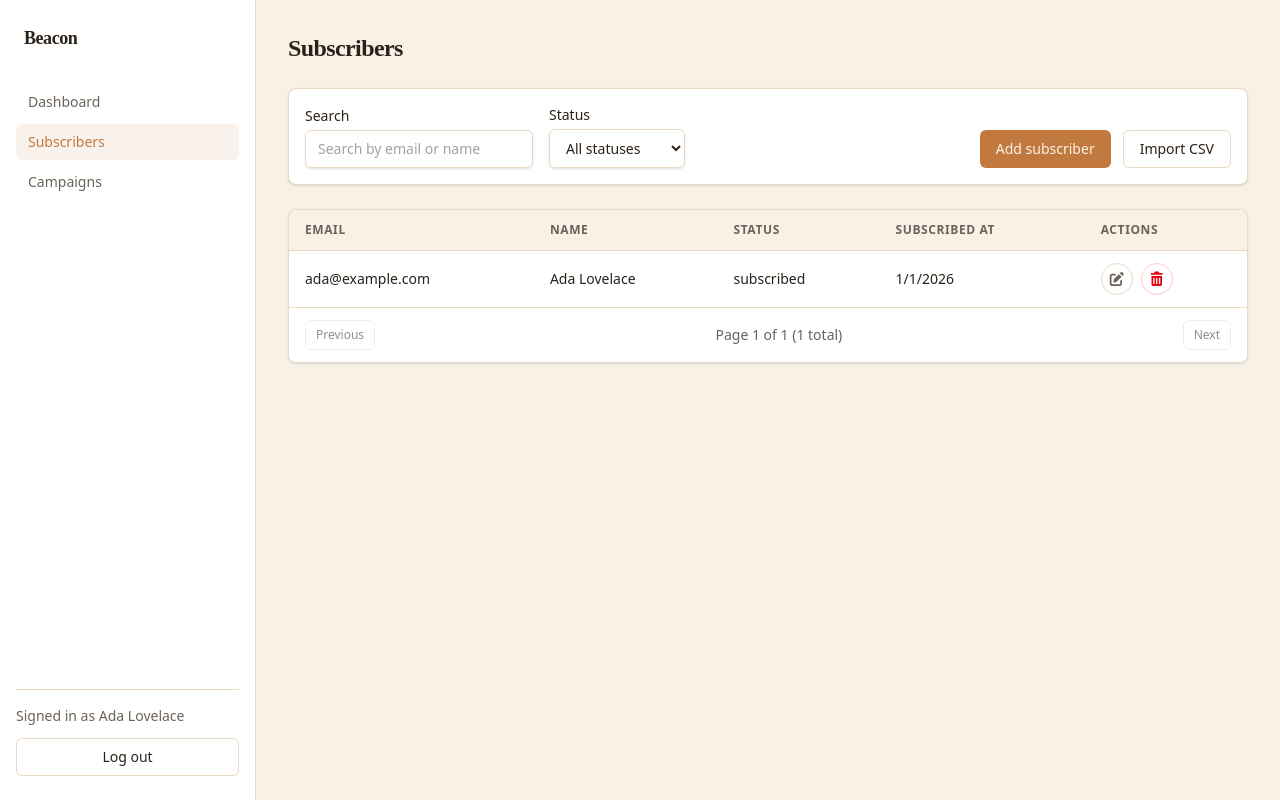
SubscriberListPage › edits an existing subscriber
Expected: the text "ada@example.com" is shown, [289,250,534,307]
Click the button named "Edit". click: (1117, 279)
box: [1101,263,1133,295]
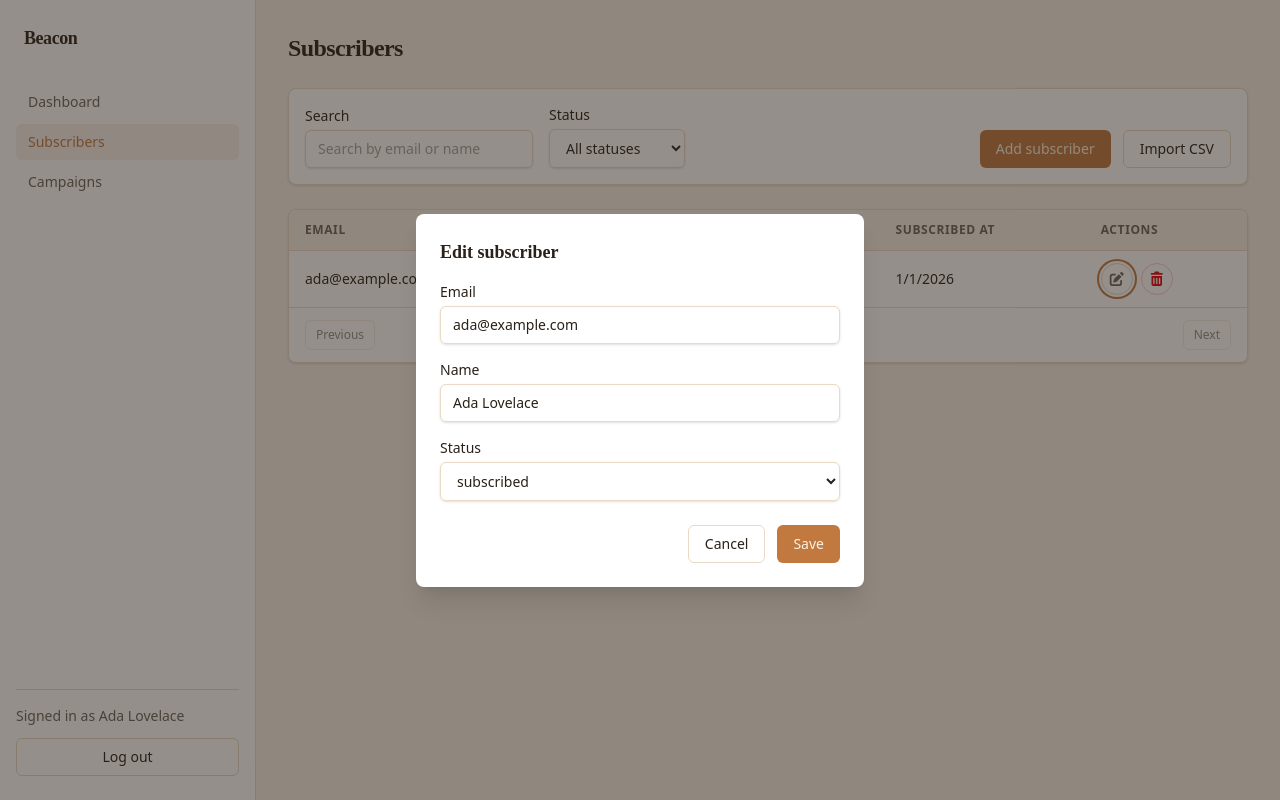
Replace the text in the field labelled "Name" with "Ada Byron". click: (640, 402)
box: [440,384,840,422]
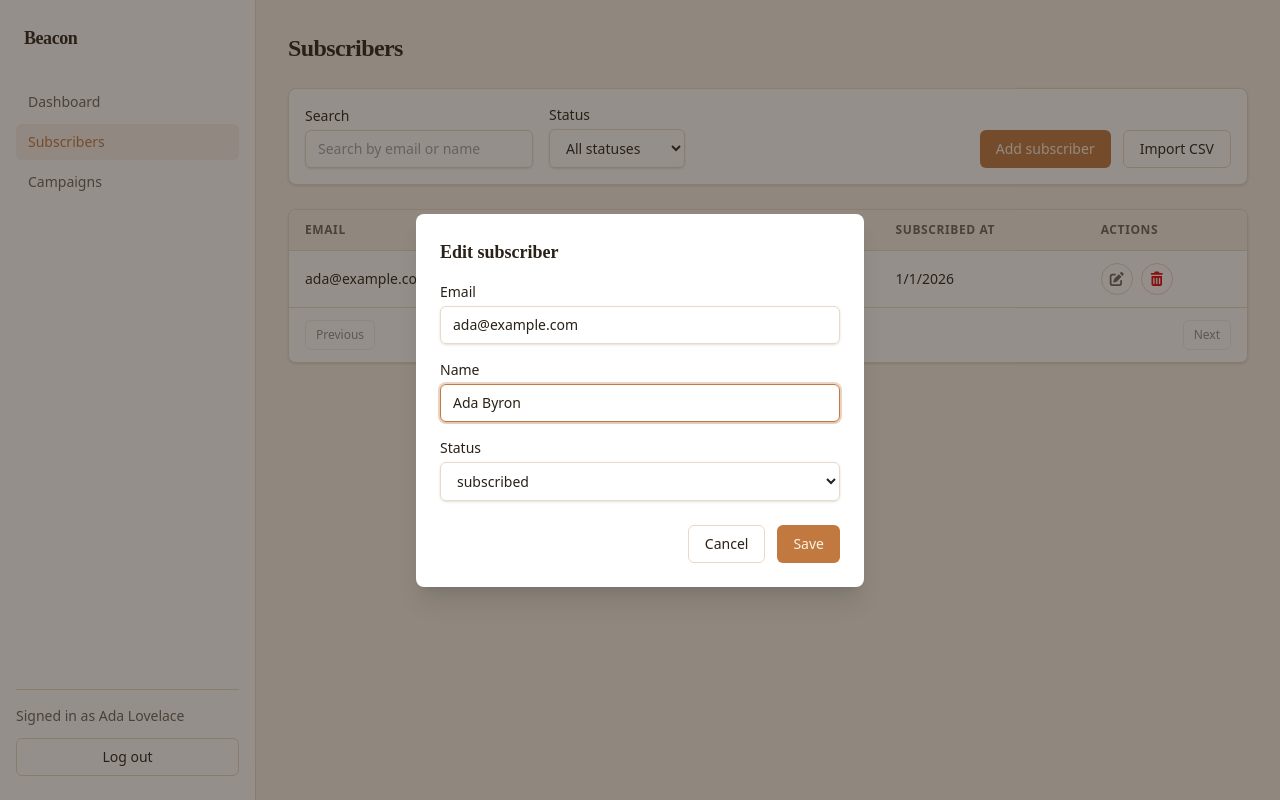
Click the button "Save". click: (809, 544)
box: [777,524,840,562]
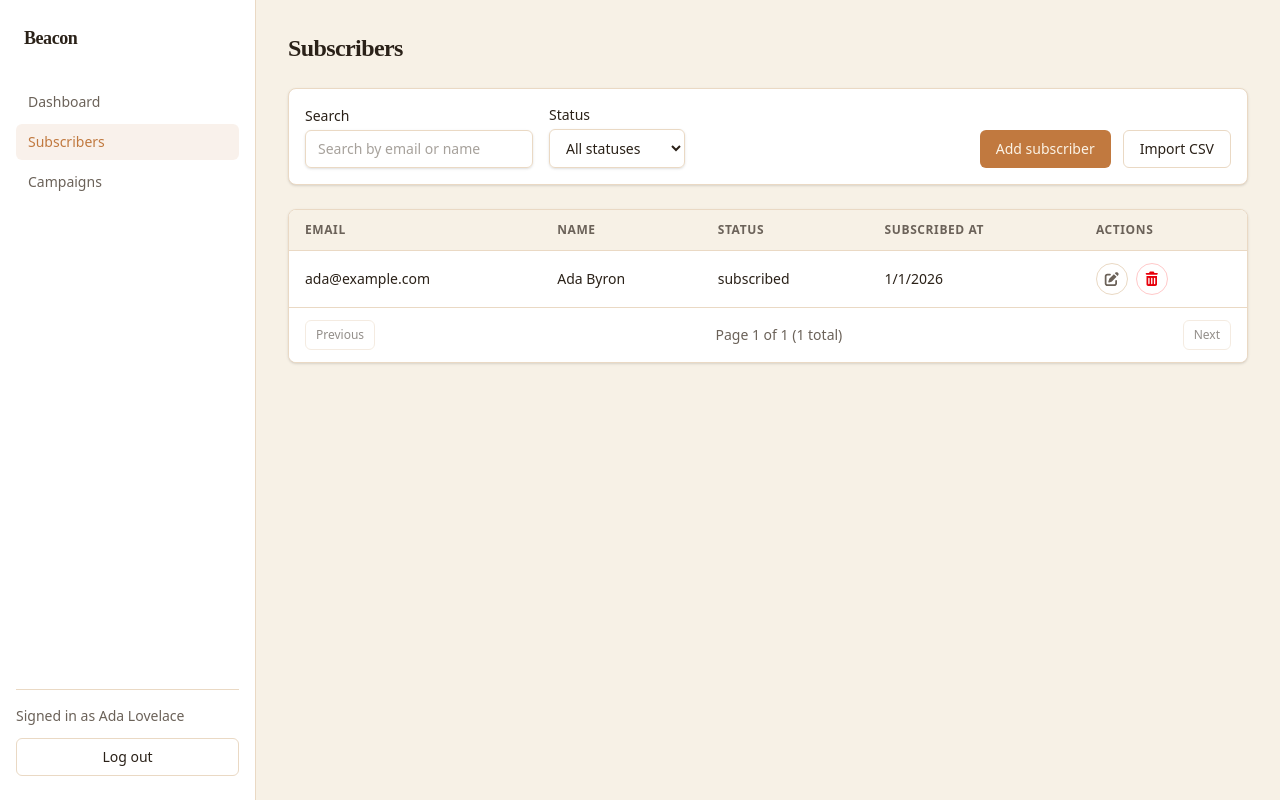
Expected: the dialog is gone
Expected: the text "Ada Byron" is shown, [541,250,702,307]
